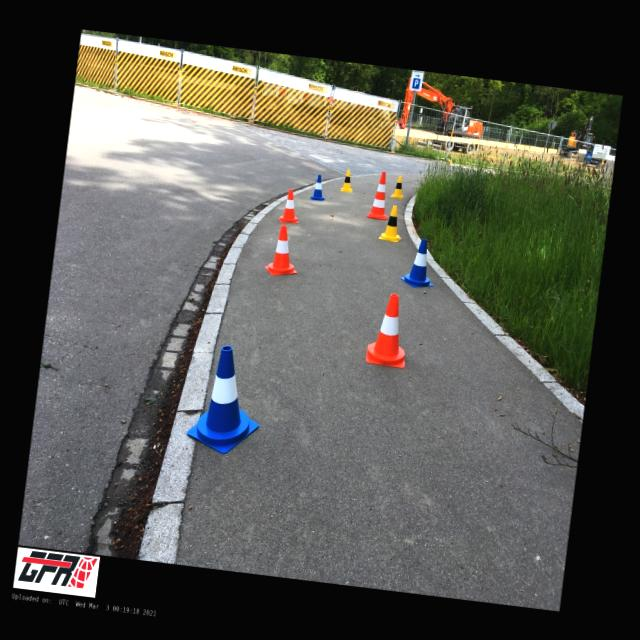blue_cone: (185, 342, 268, 456), (398, 236, 438, 288), (310, 173, 326, 200)
large_orange_cone: (367, 170, 392, 220)
orange_cone: (365, 292, 412, 368), (264, 224, 302, 278), (278, 188, 302, 224)
yellow_cone: (378, 204, 405, 242), (390, 175, 406, 199), (340, 170, 354, 192)
